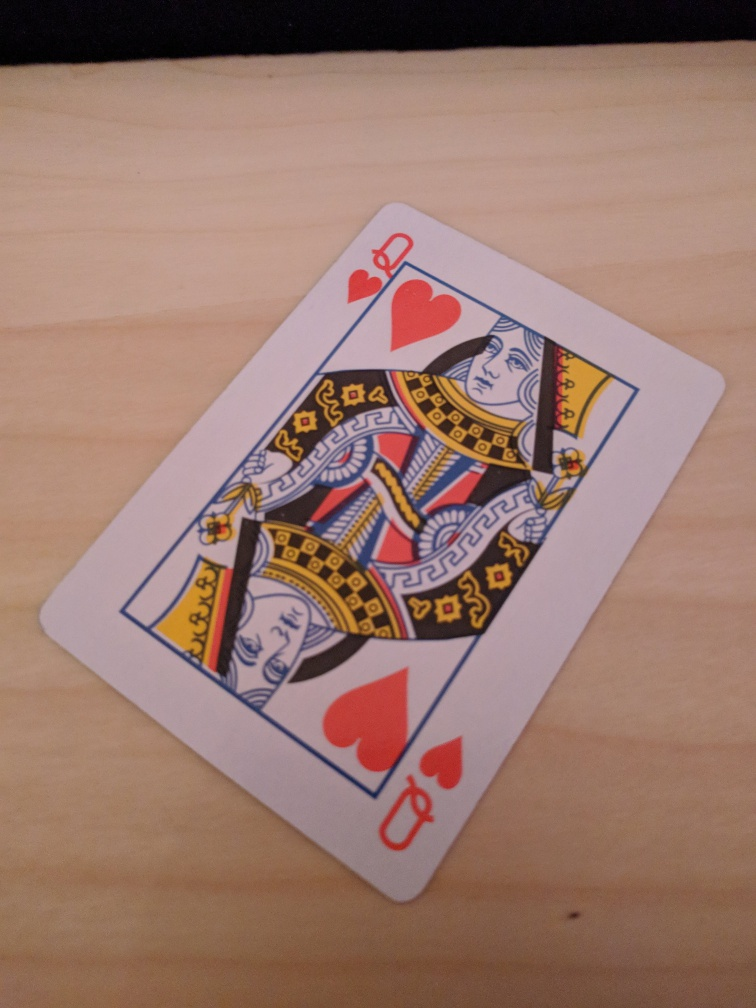queen: (37, 200, 728, 905)
